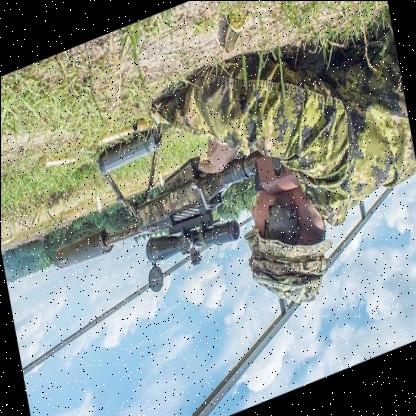rifle: (73, 150, 269, 304)
